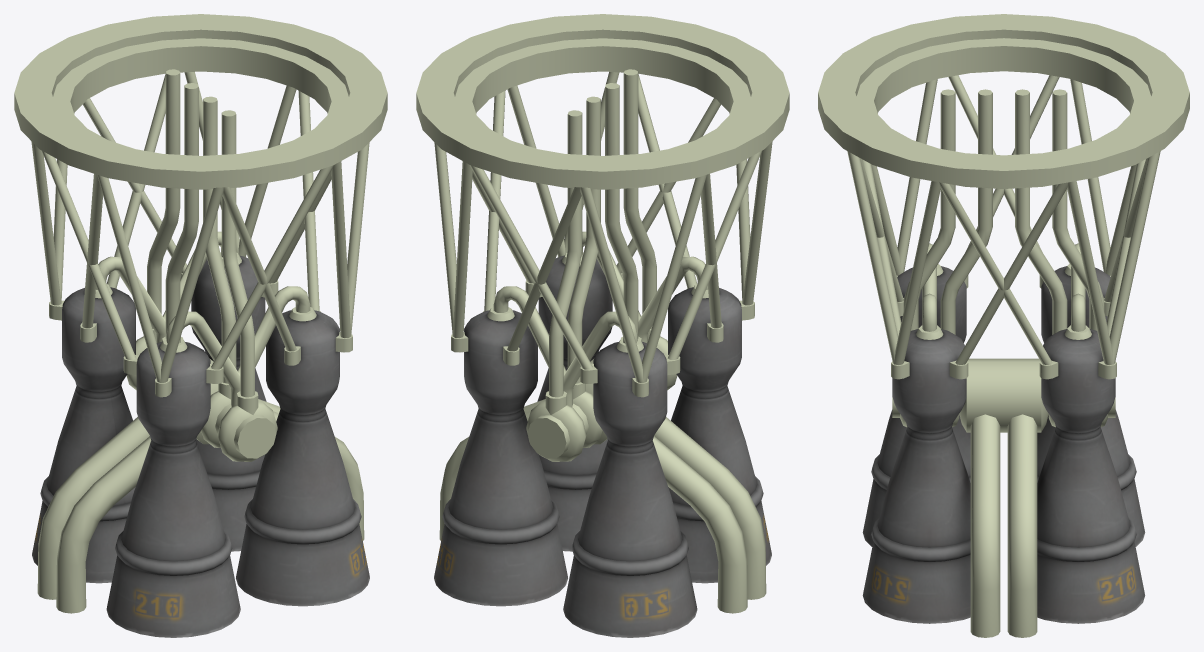
Rendered from corvus_lv_bare_engine_s1_1.obj.
3 views of the same model, side by side, from view 1: azimuth 30°, elevation 25°; view 2: azimuth 150°, elevation 25°; view 3: azimuth 270°, elevation 25° (orthographic).
Visible parts, largest first — view 1: Cylinder3_copy84, corvus_lv_bare_engine_s1_1_nozzles; view 2: Cylinder3_copy84, corvus_lv_bare_engine_s1_1_nozzles; view 3: Cylinder3_copy84, corvus_lv_bare_engine_s1_1_nozzles.
Boxes of the visible parts, <box> form: Cylinder3_copy84: <box>14,14,387,613</box>; corvus_lv_bare_engine_s1_1_nozzles: <box>32,255,369,637</box>; Cylinder3_copy84: <box>416,14,789,613</box>; corvus_lv_bare_engine_s1_1_nozzles: <box>434,255,771,637</box>; Cylinder3_copy84: <box>818,14,1189,637</box>; corvus_lv_bare_engine_s1_1_nozzles: <box>862,266,1145,623</box>.
Bounding box in the file's own units: 1.25 × 1.75 × 1.25.
